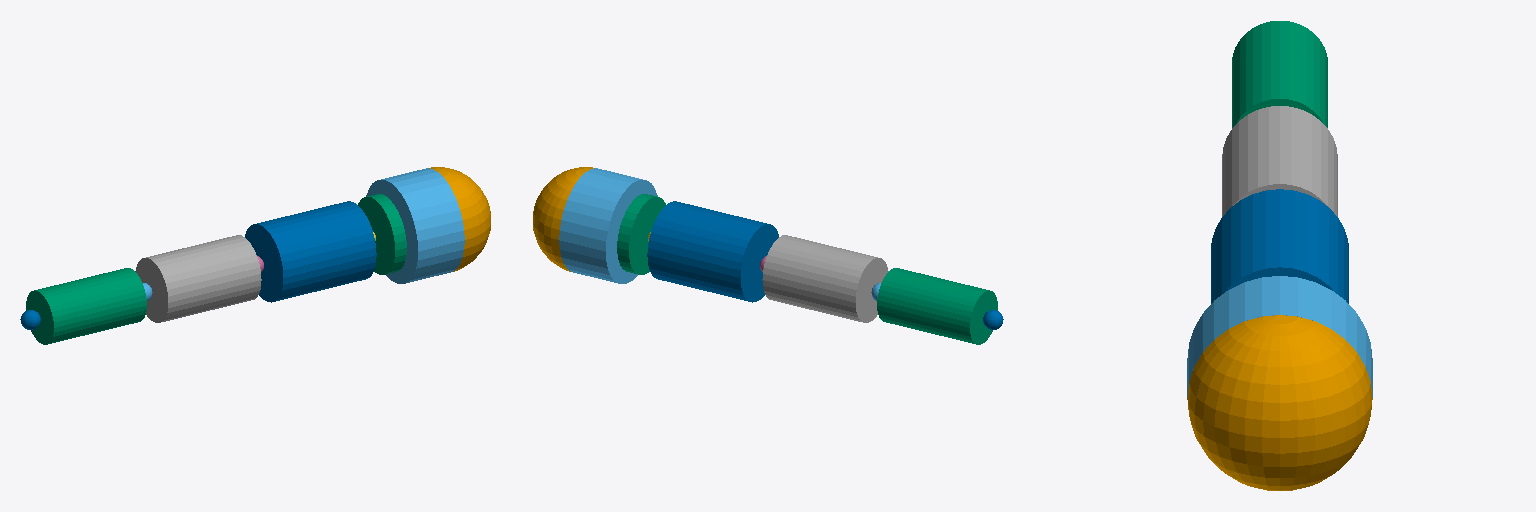
URDF robot description (snake_irreducible):
<?xml version="1.0"?>
<robot name="snake_irreducible">
<link name="eye">
  <inertial>
   <mass value="1"/>
   <inertia ixx="0.004" ixy="0" ixz="0" iyy="0.004" iyz="0" izz="0.004"/>
  </inertial>
  <collision>
    <origin rpy="0 0 0" xyz="0 0 0"/>
    <geometry>
      <sphere radius="0.1"/>
    </geometry>
  </collision>
  <visual>
    <origin rpy="0 0 0" xyz="0 0 0"/>
    <geometry>
      <sphere radius="0.1"/>
    </geometry>
  </visual>
</link>

 <link name="head">
  <inertial>
    <mass value="1"/>
    <inertia ixx="0.00333333333333" ixy="0" ixz="0" iyy="0.00333333333333" iyz="0" izz="0.0025"/>
  </inertial>
  <visual>
    <origin rpy="0 1.57 0" xyz="-0.05 0 0"/>
    <geometry>
      <cylinder length="0.1" radius="0.1"/>
    </geometry>
  </visual>
  <collision>
    <origin rpy="0 1.57 0" xyz="-0.05 0 0"/>
    <geometry>
      <cylinder length="0.1" radius="0.1"/>
    </geometry>
  </collision>
 </link>

<joint name="joint_eye_head" type="fixed">
  <origin rpy="0 0 0" xyz="0 0 0"/>
  <parent link="eye"/>
  <child link="head"/>
</joint>

<!--############################################################################
body0
##############################################################################-->
 <link name="body0_cylinder">
  <inertial>
    <mass value="1"/>
    <inertia ixx="0.00145833333333" ixy="0" ixz="0" iyy="0.00145833333333" iyz="0" izz="0.00140625"/>
  </inertial>
  <visual>
    <origin rpy="0 1.57 0" xyz="-0.0125 0 0"/>
    <geometry>
      <cylinder length="0.025" radius="0.075"/>
    </geometry>
  </visual>
  <collision>
    <origin rpy="0 1.57 0" xyz="-0.0125 0 0"/>
    <geometry>
      <cylinder length="0.025" radius="0.075"/>
    </geometry>
  </collision>
 </link>

<joint name="head_body0_joint" type="fixed">
  <origin rpy="0 0 0" xyz="-0.11 0 0"/>
  <parent link="head"/>
  <child link="body0_cylinder"/>
</joint>

<link name="body0">
  <inertial>
   <mass value="1"/>
   <inertia ixx="0.0001444" ixy="0" ixz="0" iyy="0.0001444" iyz="0" izz="0.0001444"/>
  </inertial>
  <collision>
    <origin rpy="0 0 0" xyz="-0.045 0 0"/>
    <geometry>
      <sphere radius="0.019"/>
    </geometry>
  </collision>
  <visual>
    <origin rpy="0 0 0" xyz="-0.045 0 0"/>
    <geometry>
      <sphere radius="0.019"/>
    </geometry>
  </visual>
</link>

<joint name="body0_fixed" type="fixed">
  <origin rpy="0 0 0" xyz="0 0 0"/>
  <parent link="body0_cylinder"/>
  <child link="body0"/>
</joint>

 <link name="body1_cylinder">
  <inertial>
    <mass value="1"/>
    <inertia ixx="0.00473958333333" ixy="0" ixz="0" iyy="0.00473958333333" iyz="0" izz="0.00140625"/>
  </inertial>
  <visual>
    <origin rpy="0 1.57 0" xyz="-0.12 0 0"/>
    <geometry>
      <cylinder length="0.2" radius="0.075"/>
    </geometry>
  </visual>
  <collision>
    <origin rpy="0 1.57 0" xyz="-0.12 0 0"/>
    <geometry>
      <cylinder length="0.2" radius="0.075"/>
    </geometry>
  </collision>
 </link>

<joint name="body0_body1_joint_revolute_Z" type="revolute">
  <origin rpy="0 0 0" xyz="-0.045 0 0"/>
  <parent link="body0"/>
  <child link="body0_spherical_joint_link"/>
  <axis xyz="0 0 1"/>
  <dynamics damping="0.01" friction="0.5"/>
  <limit lower="-0.785398163397" upper="0.785398163397" effort="0.01" velocity="100"/>
</joint>

<link name="body0_spherical_joint_link" physical="0">
  <inertial>
   <mass value="1"/>
   <inertia ixx="4e-07" ixy="0" ixz="0" iyy="4e-07" iyz="0" izz="4e-07"/>
  </inertial>
  <collision>
    <origin rpy="0 0 0" xyz="0 0 0"/>
    <geometry>
      <sphere radius="0.001"/>
    </geometry>
  </collision>
  <visual>
    <origin rpy="0 0 0" xyz="0 0 0"/>
    <geometry>
      <sphere radius="0.001"/>
    </geometry>
  </visual>
</link>

<joint name="body0_body1_joint_revolute_Y" type="revolute">
  <origin rpy="0 0 0" xyz="0 0 0"/>
  <parent link="body0_spherical_joint_link"/>
  <child link="body1_cylinder"/>
  <axis xyz="0 1 0"/>
  <dynamics damping="0.01" friction="0.5"/>
  <limit lower="-0.785398163397" upper="0.785398163397" effort="0.01" velocity="100"/>
</joint>

<link name="body1">
  <inertial>
   <mass value="1"/>
   <inertia ixx="0.0001444" ixy="0" ixz="0" iyy="0.0001444" iyz="0" izz="0.0001444"/>
  </inertial>
  <collision>
    <origin rpy="0 0 0" xyz="-0.24 0 0"/>
    <geometry>
      <sphere radius="0.019"/>
    </geometry>
  </collision>
  <visual>
    <origin rpy="0 0 0" xyz="-0.24 0 0"/>
    <geometry>
      <sphere radius="0.019"/>
    </geometry>
  </visual>
</link>

<joint name="body1_fixed" type="fixed">
  <origin rpy="0 0 0" xyz="0 0 0"/>
  <parent link="body1_cylinder"/>
  <child link="body1"/>
</joint>

 <link name="body2_cylinder">
  <inertial>
    <mass value="1"/>
    <inertia ixx="0.00430989583333" ixy="0" ixz="0" iyy="0.00430989583333" iyz="0" izz="0.0009765625"/>
  </inertial>
  <visual>
    <origin rpy="0 1.57 0" xyz="-0.12 0 0"/>
    <geometry>
      <cylinder length="0.2" radius="0.0625"/>
    </geometry>
  </visual>
  <collision>
    <origin rpy="0 1.57 0" xyz="-0.12 0 0"/>
    <geometry>
      <cylinder length="0.2" radius="0.0625"/>
    </geometry>
  </collision>
 </link>

<joint name="body1_body2_joint_revolute_Z" type="revolute">
  <origin rpy="0 0 0" xyz="-0.24 0 0"/>
  <parent link="body1"/>
  <child link="body1_spherical_joint_link"/>
  <axis xyz="0 0 1"/>
  <dynamics damping="0.01" friction="0.5"/>
  <limit lower="-0.785398163397" upper="0.785398163397" effort="0.01" velocity="100"/>
</joint>

<link name="body1_spherical_joint_link" physical="0">
  <inertial>
   <mass value="1"/>
   <inertia ixx="4e-07" ixy="0" ixz="0" iyy="4e-07" iyz="0" izz="4e-07"/>
  </inertial>
  <collision>
    <origin rpy="0 0 0" xyz="0 0 0"/>
    <geometry>
      <sphere radius="0.001"/>
    </geometry>
  </collision>
  <visual>
    <origin rpy="0 0 0" xyz="0 0 0"/>
    <geometry>
      <sphere radius="0.001"/>
    </geometry>
  </visual>
</link>

<joint name="body1_body2_joint_revolute_Y" type="revolute">
  <origin rpy="0 0 0" xyz="0 0 0"/>
  <parent link="body1_spherical_joint_link"/>
  <child link="body2_cylinder"/>
  <axis xyz="0 1 0"/>
  <dynamics damping="0.01" friction="0.5"/>
  <limit lower="-0.785398163397" upper="0.785398163397" effort="0.01" velocity="100"/>
</joint>

<link name="body2">
  <inertial>
   <mass value="1"/>
   <inertia ixx="0.0001444" ixy="0" ixz="0" iyy="0.0001444" iyz="0" izz="0.0001444"/>
  </inertial>
  <collision>
    <origin rpy="0 0 0" xyz="-0.24 0 0"/>
    <geometry>
      <sphere radius="0.019"/>
    </geometry>
  </collision>
  <visual>
    <origin rpy="0 0 0" xyz="-0.24 0 0"/>
    <geometry>
      <sphere radius="0.019"/>
    </geometry>
  </visual>
</link>

<joint name="body2_fixed" type="fixed">
  <origin rpy="0 0 0" xyz="0 0 0"/>
  <parent link="body2_cylinder"/>
  <child link="body2"/>
</joint>

 <link name="body3_cylinder">
  <inertial>
    <mass value="1"/>
    <inertia ixx="0.00401150173611" ixy="0" ixz="0" iyy="0.00401150173611" iyz="0" izz="0.000678168402778"/>
  </inertial>
  <visual>
    <origin rpy="0 1.57 0" xyz="-0.12 0 0"/>
    <geometry>
      <cylinder length="0.2" radius="0.0520833333333"/>
    </geometry>
  </visual>
  <collision>
    <origin rpy="0 1.57 0" xyz="-0.12 0 0"/>
    <geometry>
      <cylinder length="0.2" radius="0.0520833333333"/>
    </geometry>
  </collision>
 </link>

<joint name="body2_body3_joint_revolute_Z" type="revolute">
  <origin rpy="0 0 0" xyz="-0.24 0 0"/>
  <parent link="body2"/>
  <child link="body2_spherical_joint_link"/>
  <axis xyz="0 0 1"/>
  <dynamics damping="0.01" friction="0.5"/>
  <limit lower="-0.785398163397" upper="0.785398163397" effort="0.01" velocity="100"/>
</joint>

<link name="body2_spherical_joint_link" physical="0">
  <inertial>
   <mass value="1"/>
   <inertia ixx="4e-07" ixy="0" ixz="0" iyy="4e-07" iyz="0" izz="4e-07"/>
  </inertial>
  <collision>
    <origin rpy="0 0 0" xyz="0 0 0"/>
    <geometry>
      <sphere radius="0.001"/>
    </geometry>
  </collision>
  <visual>
    <origin rpy="0 0 0" xyz="0 0 0"/>
    <geometry>
      <sphere radius="0.001"/>
    </geometry>
  </visual>
</link>

<joint name="body2_body3_joint_revolute_Y" type="revolute">
  <origin rpy="0 0 0" xyz="0 0 0"/>
  <parent link="body2_spherical_joint_link"/>
  <child link="body3_cylinder"/>
  <axis xyz="0 1 0"/>
  <dynamics damping="0.01" friction="0.5"/>
  <limit lower="-0.785398163397" upper="0.785398163397" effort="0.01" velocity="100"/>
</joint>

<link name="body3">
  <inertial>
   <mass value="1"/>
   <inertia ixx="0.0001444" ixy="0" ixz="0" iyy="0.0001444" iyz="0" izz="0.0001444"/>
  </inertial>
  <collision>
    <origin rpy="0 0 0" xyz="-0.24 0 0"/>
    <geometry>
      <sphere radius="0.019"/>
    </geometry>
  </collision>
  <visual>
    <origin rpy="0 0 0" xyz="-0.24 0 0"/>
    <geometry>
      <sphere radius="0.019"/>
    </geometry>
  </visual>
</link>

<joint name="body3_fixed" type="fixed">
  <origin rpy="0 0 0" xyz="0 0 0"/>
  <parent link="body3_cylinder"/>
  <child link="body3"/>
</joint>

  <klampt package_root="../../.." default_acc_max="4" >
  </klampt>
</robot>

--- Facts derived from the render (not from the file) ---
Views: 3 orthographic renders of the robot side by side, from view 1: azimuth 30°, elevation 25°; view 2: azimuth 150°, elevation 25°; view 3: azimuth 270°, elevation 25°.
Robot: snake_irreducible — 13 links, 12 joints (6 revolute, 6 fixed); root link eye; default pose: all joints at 0.
Visible links, largest first — view 1: body1_cylinder, body2_cylinder, head, body3_cylinder, eye, body0_cylinder; view 2: body1_cylinder, body2_cylinder, head, body3_cylinder, eye, body0_cylinder; view 3: eye, body1_cylinder, body2_cylinder, body3_cylinder, head.
Link boxes in pixels (x1,y1,x2,y2): body1_cylinder: (245, 201, 376, 302); body2_cylinder: (135, 235, 261, 322); head: (366, 168, 464, 283); body3_cylinder: (26, 268, 146, 344); eye: (430, 167, 490, 271); body0_cylinder: (358, 194, 406, 274); body1_cylinder: (647, 201, 778, 302); body2_cylinder: (762, 235, 888, 322); head: (559, 168, 657, 283); body3_cylinder: (877, 268, 997, 344); eye: (533, 167, 593, 271); body0_cylinder: (617, 194, 665, 274); eye: (1187, 315, 1372, 490); body1_cylinder: (1211, 189, 1348, 303); body2_cylinder: (1222, 106, 1337, 216); body3_cylinder: (1232, 21, 1327, 127); head: (1187, 276, 1372, 397).
Bounding box of the posed robot: 0.994 × 0.2 × 0.2001 m (x, y, z).
Geometry: primitives only (box / cylinder / sphere), no mesh files.